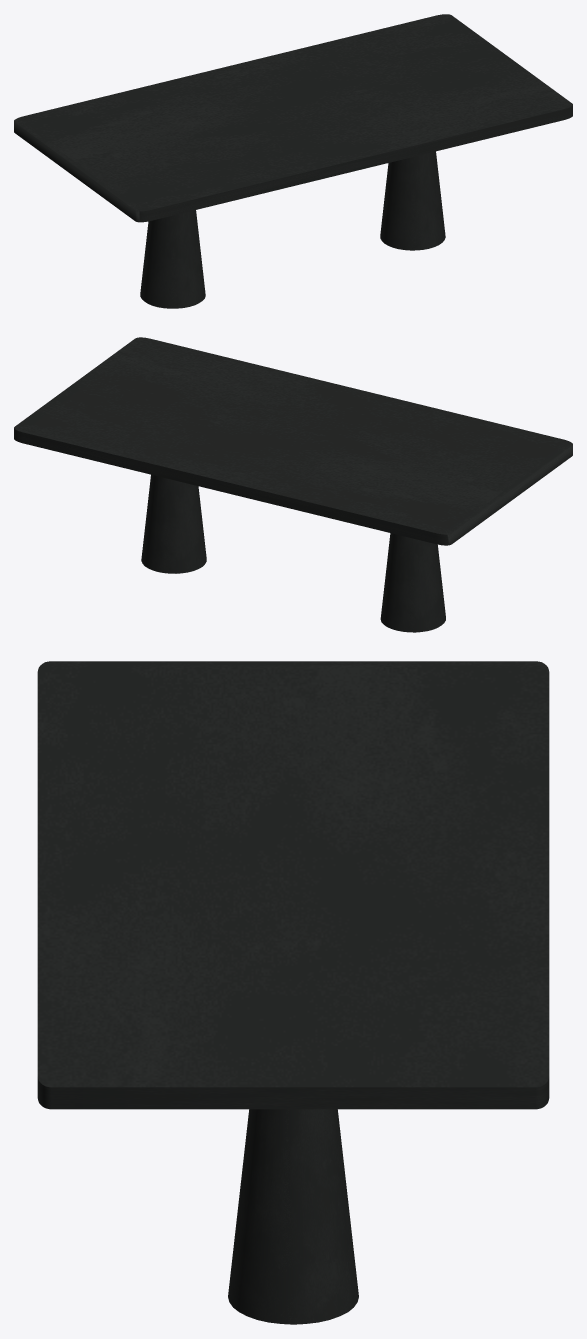
The model's file is darknight_softrecta_standard_pebble.glb.
3 views of the same model, one above another, from view 1: azimuth 30°, elevation 25°; view 2: azimuth 150°, elevation 25°; view 3: azimuth 270°, elevation 25° (orthographic). The views are drawn at different scales.
Parts seen in each view (by area): view 1: darknight_softrectastandard_pebble; view 2: darknight_softrectastandard_pebble; view 3: darknight_softrectastandard_pebble.
Part boxes in pixels (x1,y1,x2,y2): darknight_softrectastandard_pebble: (14,14,572,308); darknight_softrectastandard_pebble: (14,337,572,632); darknight_softrectastandard_pebble: (37,661,549,1324).
Size of the model in its own units: 7.5 by 2.51 by 3.8.
1 material, 1 textured.
